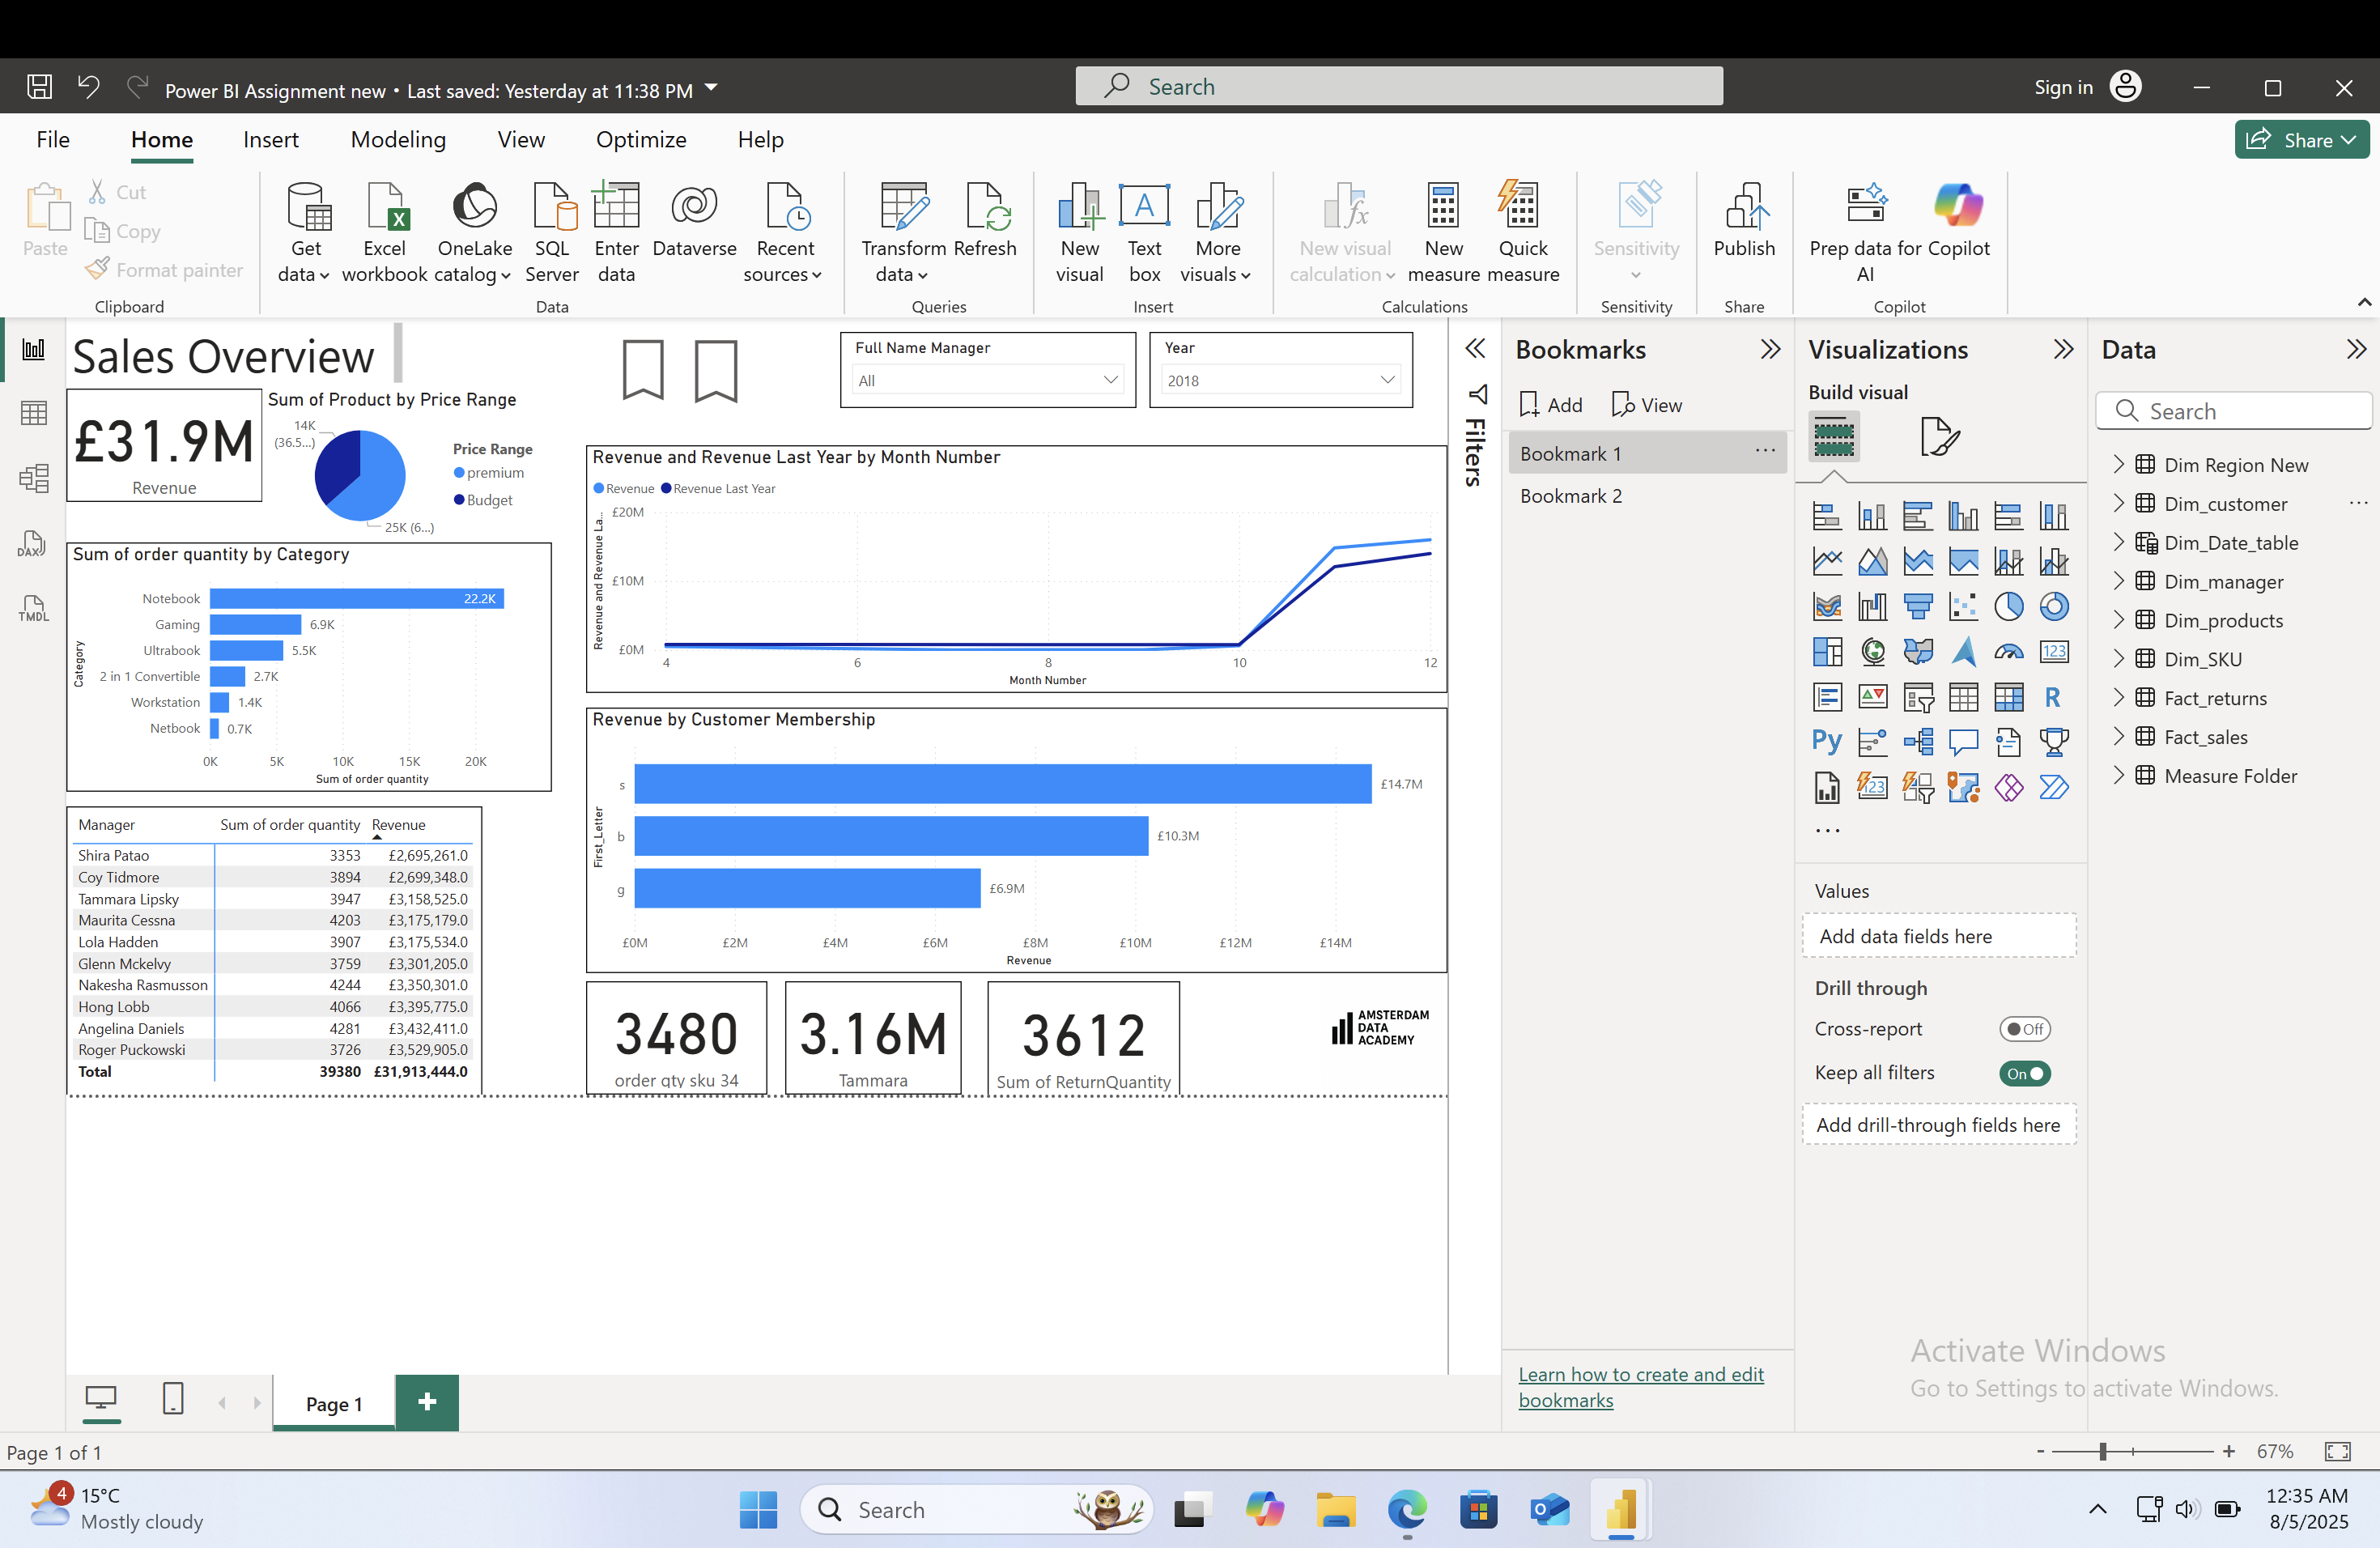

What the dashboard file says about the page in this screenshot:
{"tool":"powerbi","page":{"name":"Page 1","canvas":[1280,720],"ordinal":0},"visuals":[{"type":"image","box":[1158.8,598.6,121.2,121.2],"z":0},{"type":"card","fields":{"Values":["Measure Folder.Revenue"]},"box":[538,25.1,183.3,104.9],"z":1000},{"type":"textbox","box":[0,0,499.6,85.7],"z":2000},{"type":"pivotTable","fields":{"Rows":["Dim_manager.Manager"],"Values":["Sum(Fact_sales.order quantity)","Measure Folder.Revenue new"]},"box":[0,436,450.8,285.3],"z":3000},{"type":"slicer","fields":{"Values":["Dim_manager.Manager"]},"box":[728.7,37,274.9,93.1],"z":4000},{"type":"pieChart","title":"Sum of Product by Price Range","fields":{"Category":["Dim_products.Product Range"],"Y":["Sum(Fact_sales.order quantity)"]},"box":[444.6,386.9,809.8,247.3],"z":5000},{"type":"barChart","fields":{"Category":["Dim_products.Category"],"Y":["Sum(Fact_sales.order quantity)"]},"box":[0,205.5,450.8,230.6],"z":6000},{"type":"slicer","fields":{"Values":["Dim_Date_table.Year"]},"box":[1003.6,47.3,245.4,82.8],"z":7000},{"type":"lineChart","fields":{"Y":["Measure Folder.Revenue","Measure Folder.Revenue Last Year"],"Category":["Dim_Date_table.Month Number"]},"box":[450.8,130.1,798.2,230.6],"z":8000},{"type":"card","fields":{"Values":["Measure Folder.order qty sku 34"]},"box":[187.7,100.5,170,104.9],"z":9000},{"type":"card","fields":{"Values":["Measure Folder.Tammara"]},"box":[23.6,102,164.1,104.9],"z":10000},{"type":"barChart","title":"Revenue by Customer Membership","fields":{"Category":["Dim_customer.First_Letter"],"Y":["Measure Folder.Revenue"]},"box":[449.7,386.9,798.2,247.3],"z":11000},{"type":"actionButton","box":[451,658.6,99.9,39.7],"z":12000}]}

Visuals, with their boxes on the page's 1280x720 design canvas (x1, y1, x2, y2). These are canvas units, not pixel positions in the 2380x1548 screenshot, which may show the page scaled, cropped or inside an application window:
image: rect(1159, 599, 1280, 720)
card - Measure Folder.Revenue: rect(538, 25, 721, 130)
textbox: rect(0, 0, 500, 86)
pivotTable - Dim_manager.Manager x Sum(Fact_sales.order quantity): rect(0, 436, 451, 721)
slicer - Dim_manager.Manager: rect(729, 37, 1004, 130)
"Sum of Product by Price Range" pieChart: rect(445, 387, 1254, 634)
barChart - Dim_products.Category x Sum(Fact_sales.order quantity): rect(0, 206, 451, 436)
slicer - Dim_Date_table.Year: rect(1004, 47, 1249, 130)
lineChart - Measure Folder.Revenue x Measure Folder.Revenue Last Year: rect(451, 130, 1249, 361)
card - Measure Folder.order qty sku 34: rect(188, 100, 358, 205)
card - Measure Folder.Tammara: rect(24, 102, 188, 207)
"Revenue by Customer Membership" barChart: rect(450, 387, 1248, 634)
actionButton: rect(451, 659, 551, 698)
